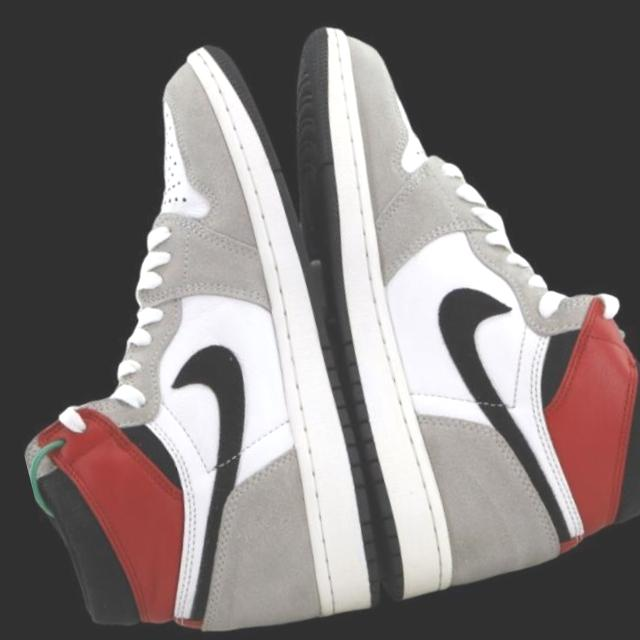nike_original_jordan: (0, 2, 418, 640), (241, 0, 640, 622)
